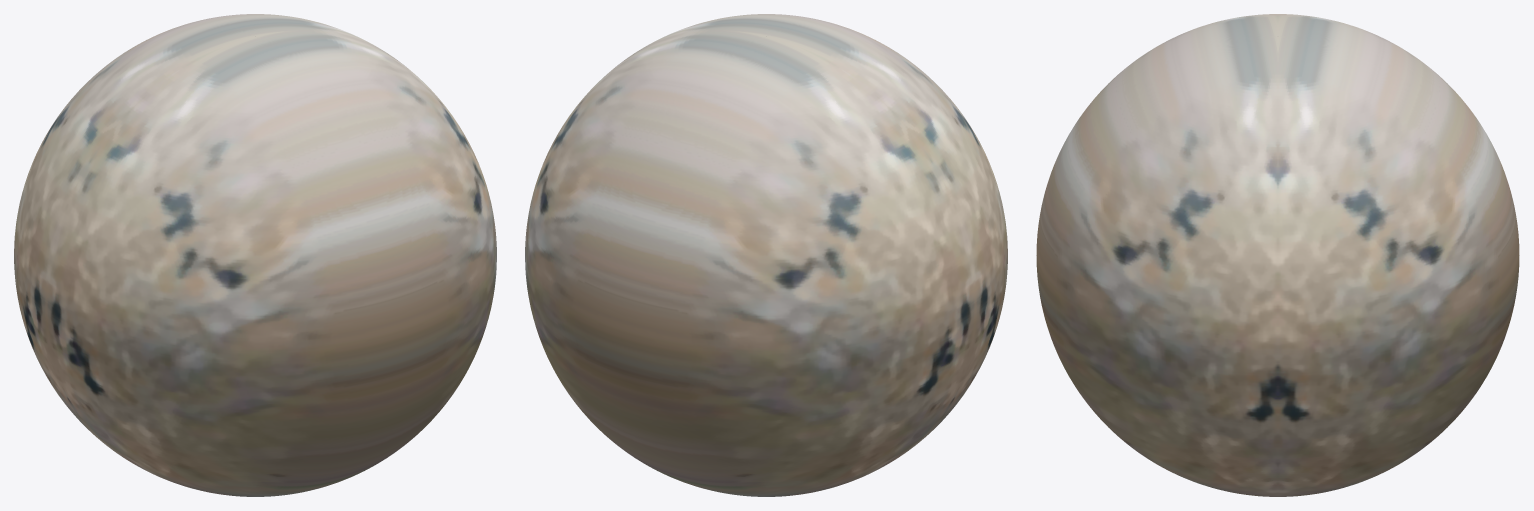
Rendered from Kepler-452_b.glb.
The picture shows the model from 3 angles, left to right: view 1: azimuth 30°, elevation 25°; view 2: azimuth 150°, elevation 25°; view 3: azimuth 270°, elevation 25°; orthographic projection.
Parts seen in each view (by area): view 1: Kepler-452_b; view 2: Kepler-452_b; view 3: Kepler-452_b.
Boxes of the visible parts, x1=… form: Kepler-452_b: x1=14, y1=14, x2=496, y2=496; Kepler-452_b: x1=525, y1=14, x2=1007, y2=496; Kepler-452_b: x1=1036, y1=14, x2=1519, y2=496.
Size of the model in its own units: 2 by 2 by 2.
Materials: 1 (1 with a texture image).
